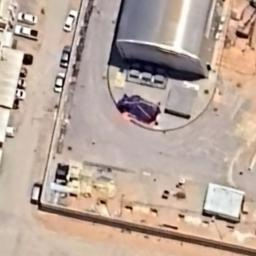SUV: (62, 9, 78, 32), (17, 12, 38, 26)
pickup: (14, 24, 38, 40)
sedan: (60, 44, 72, 68), (54, 72, 66, 92)
unknown: (23, 54, 33, 65), (6, 126, 15, 136), (16, 90, 25, 100), (20, 68, 27, 78)
van: (30, 183, 42, 204)
